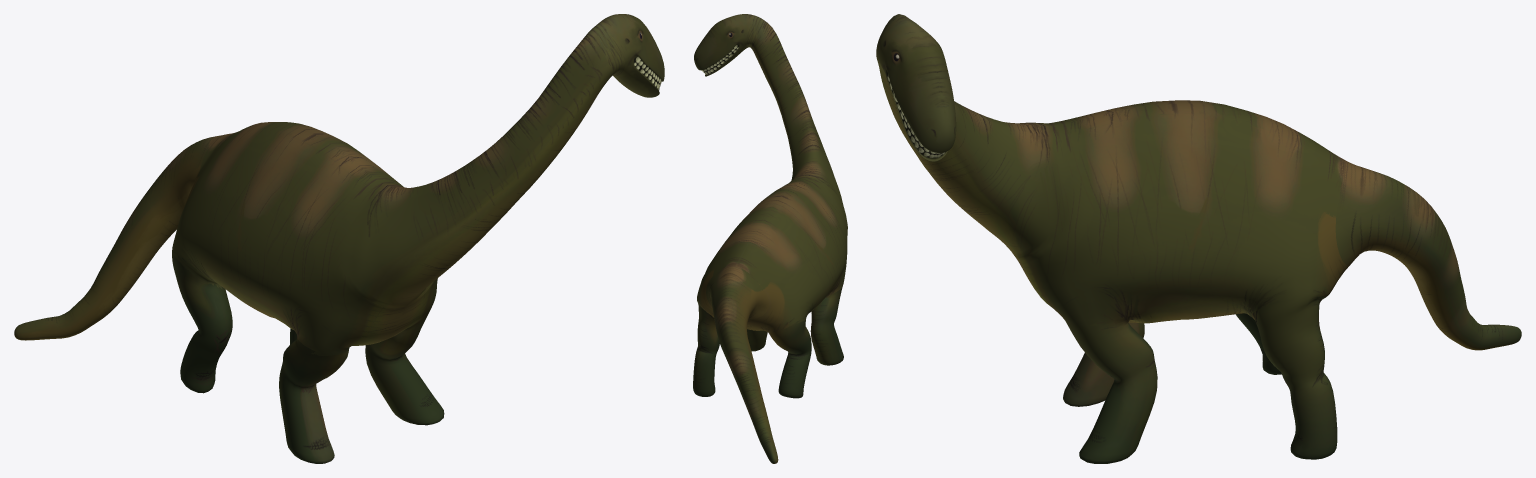
The picture shows the model from 3 angles, left to right: view 1: azimuth 30°, elevation 25°; view 2: azimuth 150°, elevation 25°; view 3: azimuth 270°, elevation 25°; orthographic projection. The views are drawn at different scales.
Parts seen in each view (by area): view 1: Object_2; view 2: Object_2; view 3: Object_2.
Boxes of the visible parts, x1=… form: Object_2: x1=14, y1=14, x2=664, y2=463; Object_2: x1=693, y1=14, x2=847, y2=463; Object_2: x1=876, y1=14, x2=1521, y2=463.
Bounding box in the file's own units: 17.24 × 18.87 × 22.17.
1 material, 1 textured.
